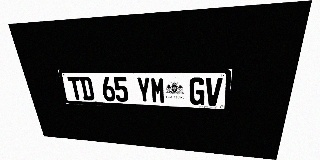5: (113, 77, 129, 102)
6: (100, 77, 116, 101)
D: (79, 77, 95, 101)
G: (189, 77, 205, 105)
M: (150, 77, 166, 104)
T: (67, 76, 83, 100)
V: (205, 78, 223, 106)
Y: (136, 77, 151, 103)
